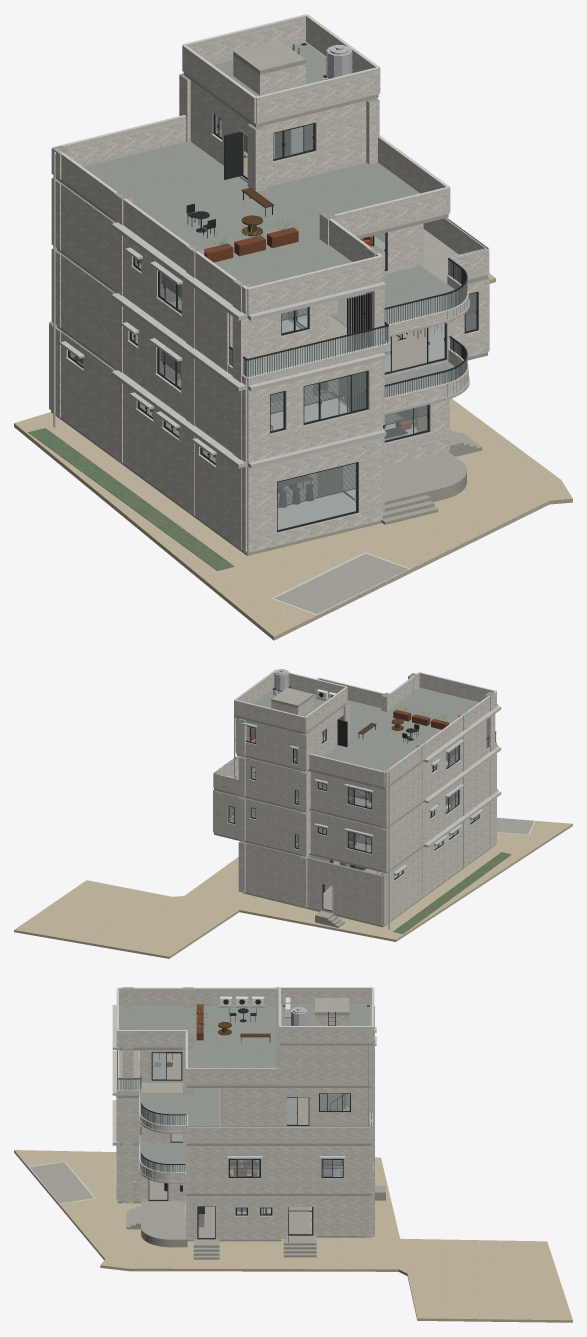
The model's file is industrial.glb.
3 views of the same model, one above another, from view 1: azimuth 30°, elevation 25°; view 2: azimuth 150°, elevation 25°; view 3: azimuth 270°, elevation 25° (orthographic). The views are drawn at different scales.
Visible parts, largest first — view 1: SITE_site_ground, FLOOR_1_wall_facade, FLOOR_4_floor_finish_terrace, FLOOR_2_wall_facade, FLOOR_4_parapet_facade, FLOOR_3_wall_facade, ROOF_parapet_facade, SITE_site_porch, FLOOR_4_wall_facade, FLOOR_1_window_glass, FLOOR_3_railing_metal, FLOOR_4_column_facade (+37 smaller); view 2: SITE_site_ground, FLOOR_1_wall_facade, FLOOR_2_wall_facade, FLOOR_3_wall_facade, FLOOR_4_floor_finish_terrace, FLOOR_4_parapet_facade, ROOF_parapet_facade, FLOOR_4_wall_facade, FLOOR_2_column_facade, FLOOR_3_column_facade, FLOOR_1_column_facade, FLOOR_4_column_facade (+24 smaller); view 3: SITE_site_ground, FLOOR_2_wall_facade, FLOOR_1_wall_facade, FLOOR_4_floor_finish_terrace, SITE_site_porch, FLOOR_3_wall_facade, FLOOR_4_parapet_facade, FLOOR_4_wall_facade, FLOOR_3_parapet_facade, ROOF_parapet_facade, FLOOR_3_floor_finish_terrace, FLOOR_3_slab_slab (+23 smaller).
Part boxes in pixels (x1,y1,x2,y2): SITE_site_ground: (14, 273, 572, 640); FLOOR_1_wall_facade: (49, 322, 449, 552); FLOOR_4_floor_finish_terrace: (83, 141, 419, 286); FLOOR_2_wall_facade: (61, 255, 489, 462); FLOOR_4_parapet_facade: (53, 116, 450, 314); FLOOR_3_wall_facade: (61, 184, 423, 371); ROOF_parapet_facade: (182, 16, 380, 123); SITE_site_porch: (274, 429, 482, 615); FLOOR_4_wall_facade: (190, 80, 377, 186); FLOOR_1_window_glass: (70, 352, 427, 529); FLOOR_3_railing_metal: (229, 218, 487, 377); FLOOR_4_column_facade: (51, 75, 384, 311); SITE_site_ground: (14, 821, 572, 958); FLOOR_1_wall_facade: (245, 798, 496, 925); FLOOR_2_wall_facade: (213, 753, 496, 869); FLOOR_3_wall_facade: (245, 720, 486, 825); FLOOR_4_floor_finish_terrace: (323, 687, 479, 770); FLOOR_4_parapet_facade: (235, 673, 496, 787); ROOF_parapet_facade: (234, 672, 347, 732); FLOOR_4_wall_facade: (235, 707, 343, 768); FLOOR_2_column_facade: (238, 755, 495, 872); FLOOR_3_column_facade: (238, 714, 495, 827); FLOOR_1_column_facade: (238, 799, 495, 923); FLOOR_4_column_facade: (238, 674, 495, 787); SITE_site_ground: (14, 1150, 572, 1322); FLOOR_2_wall_facade: (116, 1095, 372, 1193); FLOOR_1_wall_facade: (116, 1145, 364, 1239); FLOOR_4_floor_finish_terrace: (119, 1005, 275, 1068); SITE_site_porch: (30, 1162, 385, 1259); FLOOR_3_wall_facade: (140, 1050, 364, 1126); FLOOR_4_parapet_facade: (116, 988, 281, 1085); FLOOR_4_wall_facade: (280, 1045, 372, 1085); FLOOR_3_parapet_facade: (116, 1050, 372, 1143); ROOF_parapet_facade: (278, 988, 374, 1043); FLOOR_3_floor_finish_terrace: (142, 1088, 219, 1126); FLOOR_3_slab_slab: (117, 1051, 371, 1145).
Bounding box in the file's own units: 26.38 × 16.92 × 36.59.
Materials: 48 (25 with a texture image).
